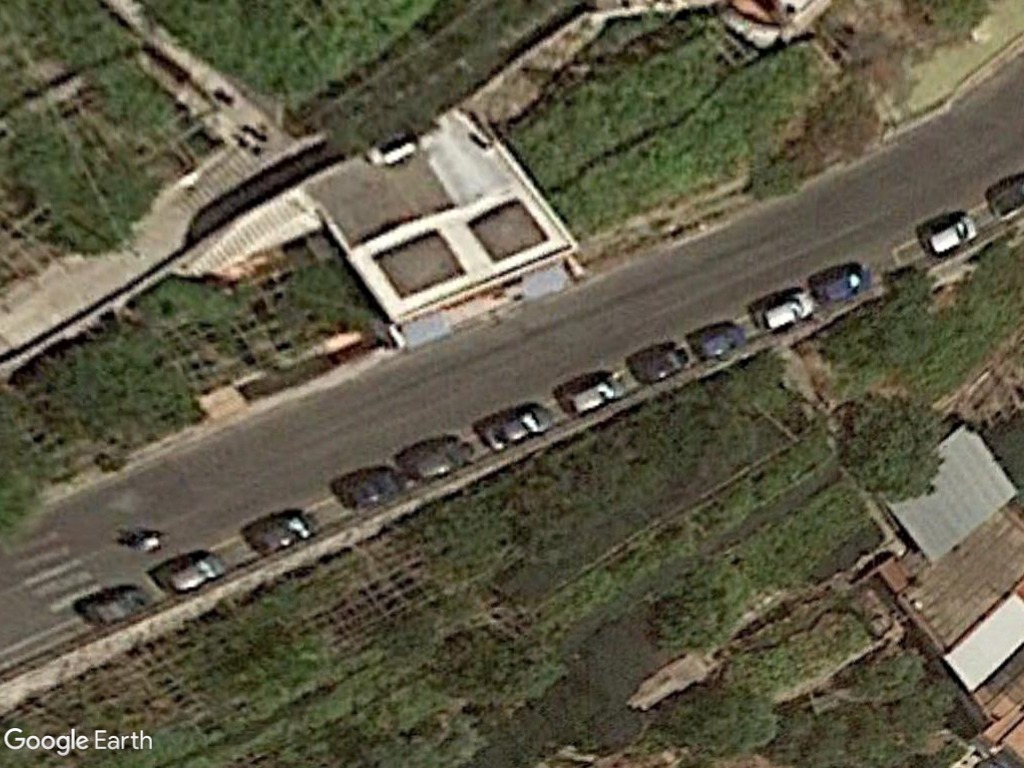car: (919, 211, 982, 258), (753, 290, 816, 336)
